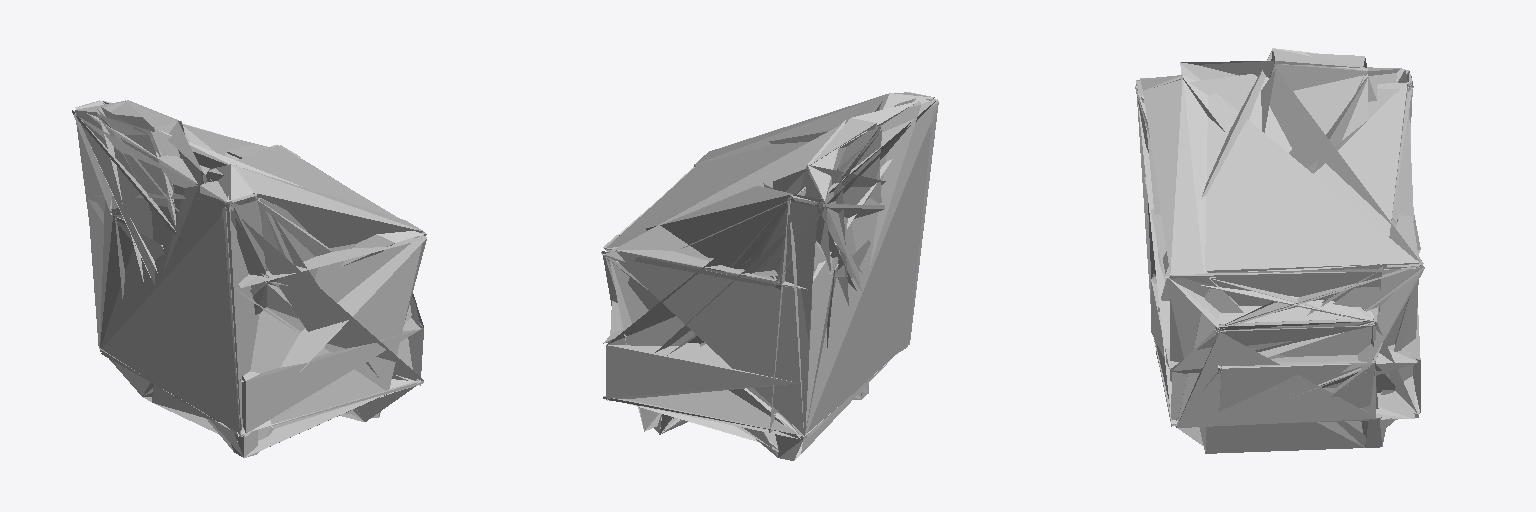
File: chair.obj
3 views of the same model, side by side, from view 1: azimuth 30°, elevation 25°; view 2: azimuth 150°, elevation 25°; view 3: azimuth 270°, elevation 25° (orthographic).
Parts seen in each view (by area): view 1: Box001, Box002; view 2: Box001; view 3: Box001, Box002.
Boxes of the visible parts, box(x1,y1,x2,y2) form: Box001: box(72, 100, 426, 457); Box002: box(143, 388, 378, 450); Box001: box(601, 92, 938, 460); Box001: box(1135, 48, 1424, 450); Box002: box(1205, 320, 1381, 453).
Bounding box in the file's own units: 111014 × 137411 × 115924.